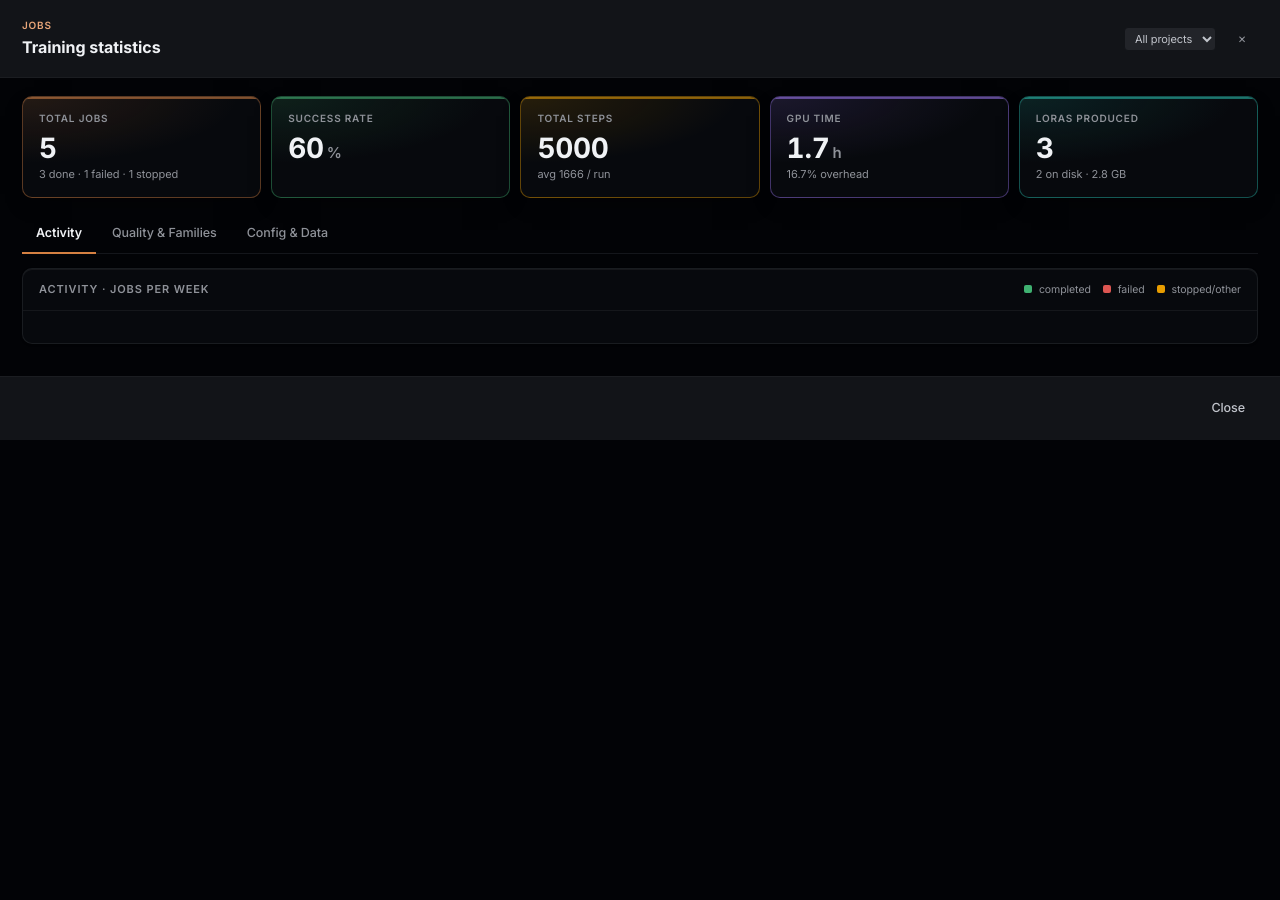
it: TrainingStatsModalComponent › switches sections when a tab is clicked, keeping the KPI row
This screenshot has width=1280, height=900.
Step 1. Click the button with class "tab" showing "Quality & Families" → (164, 234), box [98,214,231,254]
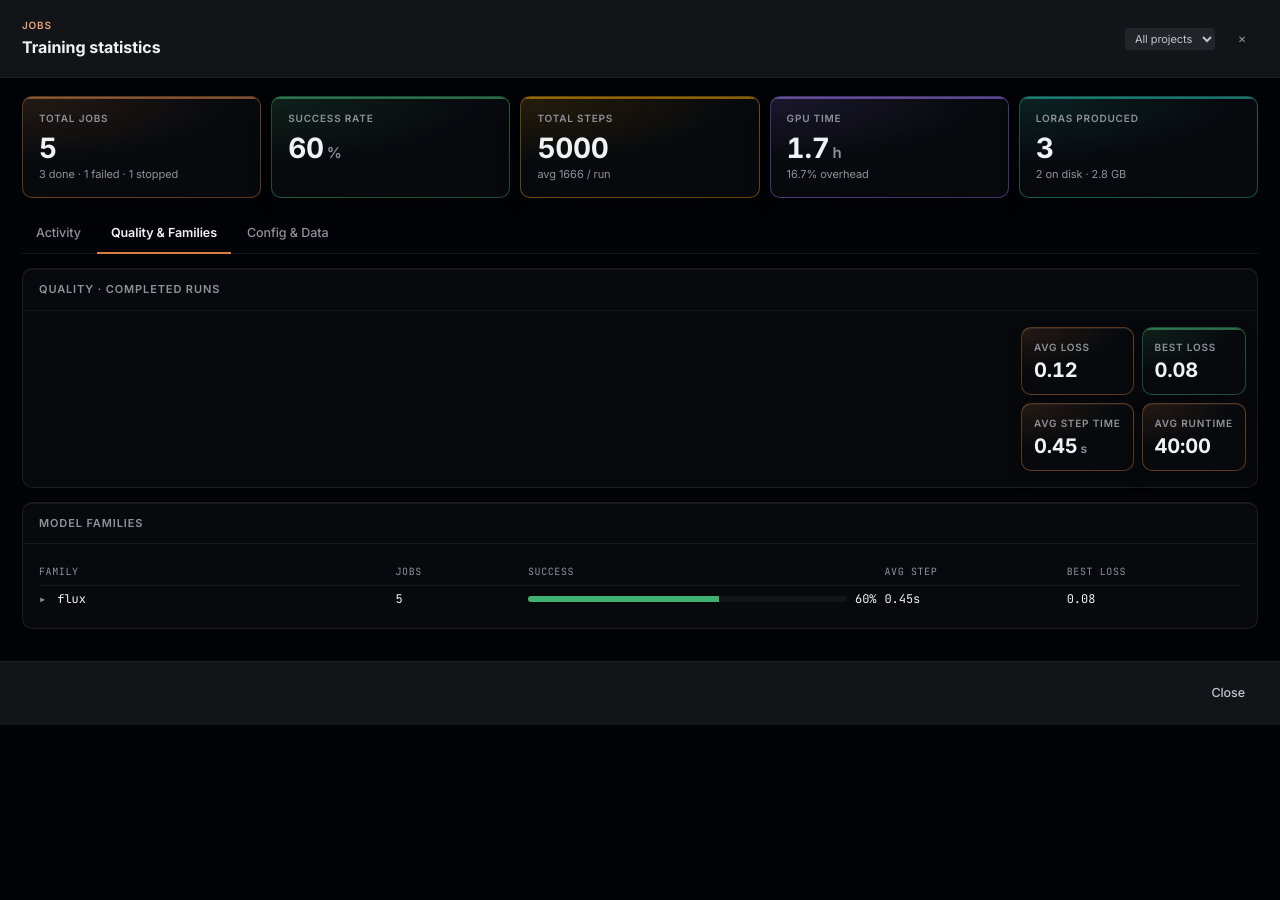
Expected: the element with test id "stats-kpi-total" is shown, [22,96,261,198]
Expected: the element with test id "stats-family-row" is shown, [39,586,1241,612]
Step 2. Click the button with class "tab" showing "Config & Data" → (288, 234), box [233,214,342,254]
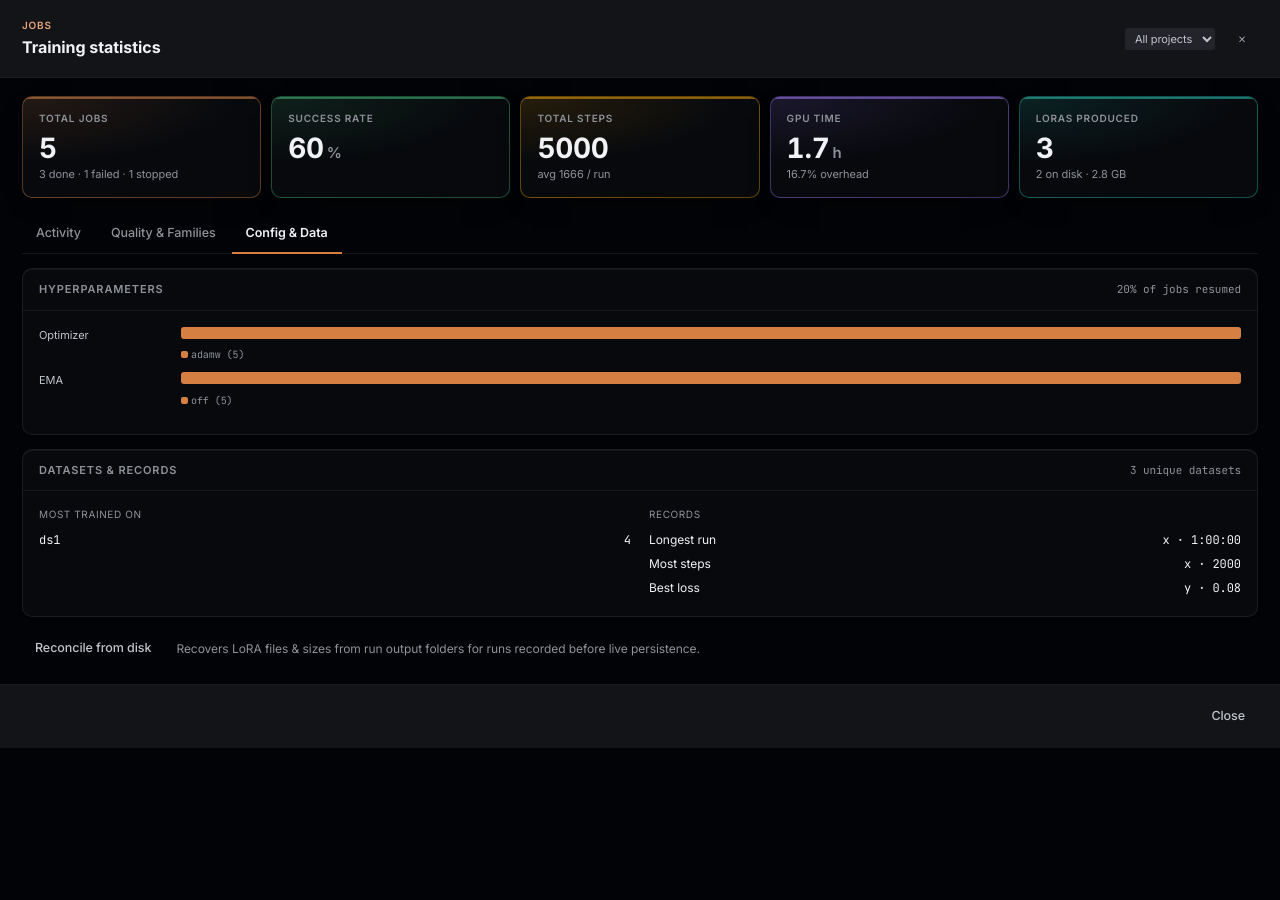
Expected: the element with test id "stats-hp-row" showing "Optimizer adamw (5)" is shown, [39,327,1241,362]
Expected: the element with test id "stats-datasets" is shown, [39,508,631,548]
Expected: the element with test id "stats-family-row" is gone
